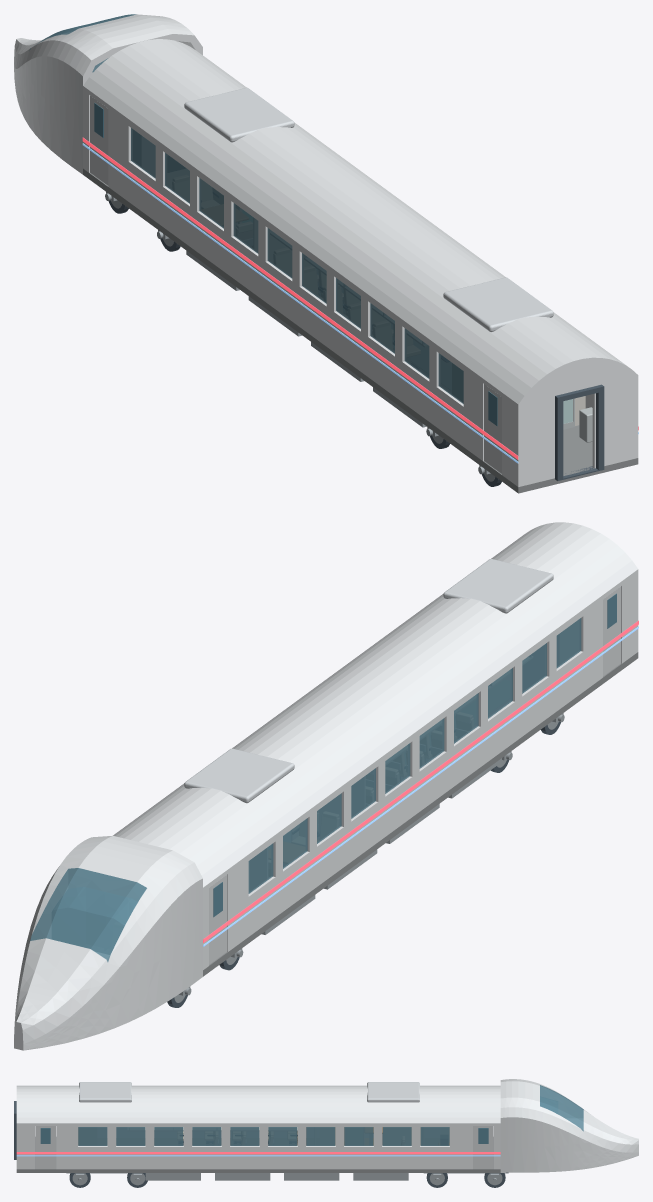
File: first.glb
3 views of the same model, one above another, from view 1: azimuth 30°, elevation 25°; view 2: azimuth 150°, elevation 25°; view 3: azimuth 270°, elevation 25° (orthographic). The views are drawn at different scales.
Visible parts, largest first — view 1: FirstRoofShell, FirstWallN1, FirstGlassN1, FirstNoseUpper, FirstEnd, FirstFloor, FirstNoseLower, FirstStripeN1, FirstHVAC, FirstHVAC001, FirstRoofEnd, FirstGangway (+3 smaller); view 2: FirstRoofShell, FirstWallN1, FirstNoseUpper, FirstNoseLower, FirstGlassN1, FirstWindshield, FirstStripeN1, FirstHVAC001, FirstHVAC, FirstFloor, FirstDoorN1_0, FirstDoorN1_1 (+1 smaller); view 3: FirstRoofShell, FirstWall1, FirstGlass1, FirstNoseUpper, FirstNoseLower, FirstStripe1, FirstFloor, FirstUnderfloor, FirstHVAC, FirstHVAC001, FirstWindshield, FirstDoor1_0 (+3 smaller).
Boxes of the visible parts, left/top/right/bottom form: FirstRoofShell: left=83, top=39, right=637, bottom=404; FirstWallN1: left=83, top=86, right=522, bottom=486; FirstGlassN1: left=131, top=128, right=463, bottom=403; FirstNoseUpper: left=21, top=14, right=202, bottom=128; FirstEnd: left=516, top=375, right=638, bottom=486; FirstFloor: left=83, top=168, right=638, bottom=493; FirstNoseLower: left=14, top=38, right=82, bottom=174; FirstStripeN1: left=82, top=137, right=518, bottom=463; FirstHVAC: left=184, top=87, right=294, bottom=142; FirstHVAC001: left=443, top=277, right=553, bottom=332; FirstRoofEnd: left=517, top=356, right=636, bottom=404; FirstGangway: left=555, top=384, right=604, bottom=480; FirstRoofShell: left=113, top=522, right=637, bottom=887; FirstWallN1: left=203, top=569, right=638, bottom=969; FirstNoseUpper: left=21, top=835, right=202, bottom=992; FirstNoseLower: left=14, top=931, right=202, bottom=1050; FirstGlassN1: left=248, top=618, right=581, bottom=893; FirstWindshield: left=29, top=868, right=146, bottom=962; FirstStripeN1: left=203, top=620, right=638, bottom=946; FirstHVAC001: left=443, top=559, right=553, bottom=613; FirstHVAC: left=184, top=748, right=294, bottom=803; FirstFloor: left=203, top=652, right=638, bottom=976; FirstDoorN1_0: left=209, top=875, right=227, bottom=964; FirstDoorN1_1: left=603, top=586, right=620, bottom=676; FirstRoofShell: left=16, top=1085, right=500, bottom=1123; FirstWall1: left=16, top=1123, right=500, bottom=1169; FirstGlass1: left=78, top=1127, right=449, bottom=1145; FirstNoseUpper: left=500, top=1079, right=610, bottom=1147; FirstNoseLower: left=500, top=1127, right=638, bottom=1172; FirstStripe1: left=16, top=1152, right=500, bottom=1156; FirstFloor: left=16, top=1137, right=500, bottom=1172; FirstUnderfloor: left=145, top=1173, right=408, bottom=1180; FirstHVAC: left=367, top=1082, right=419, bottom=1102; FirstHVAC001: left=79, top=1082, right=131, bottom=1102; FirstWindshield: left=540, top=1085, right=583, bottom=1131; FirstDoor1_0: left=473, top=1126, right=493, bottom=1168.
Bounding box in the file's own units: 3.37 × 4.3 × 27.12.
